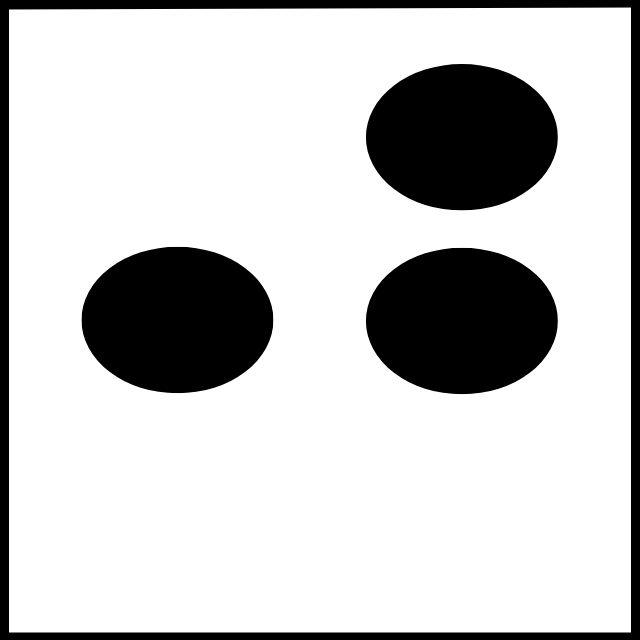hakbang: (80, 63, 560, 592)
